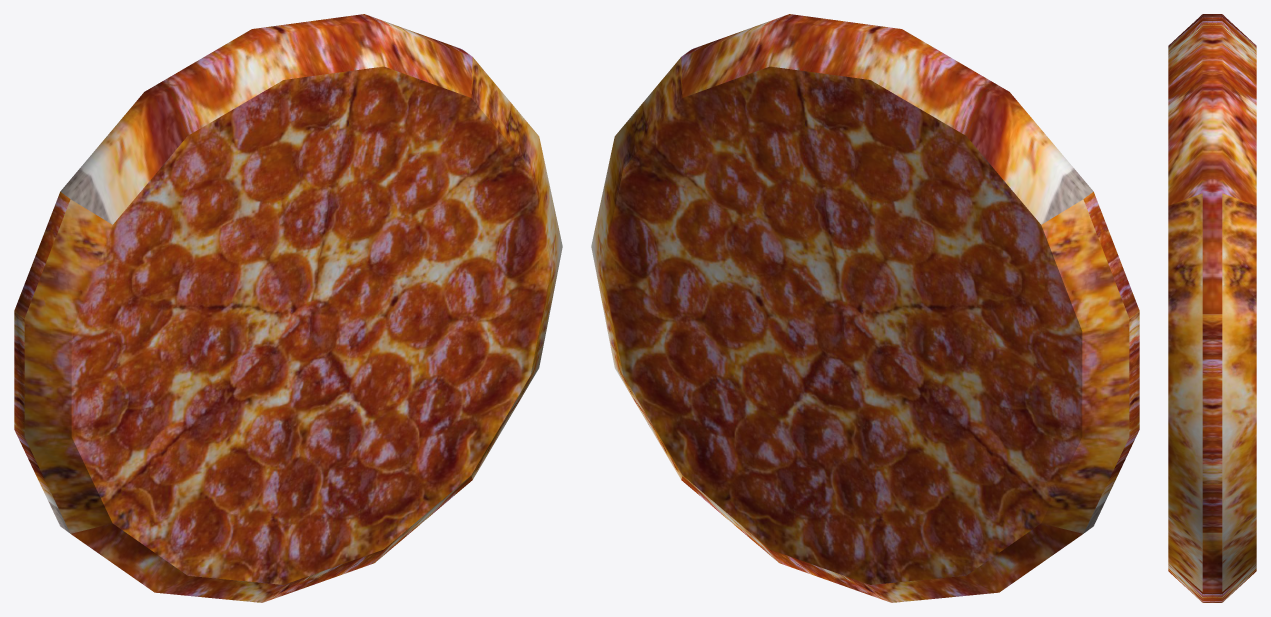
File: piza_002.FBX
3 renders of one model, left to right at view 1: azimuth 30°, elevation 25°; view 2: azimuth 150°, elevation 25°; view 3: azimuth 270°, elevation 25°, orthographic. The views are drawn at different scales.
Parts seen in each view (by area): view 1: Cylinder001; view 2: Cylinder001; view 3: Cylinder001.
Part boxes in pixels (left/top/right/bottom): Cylinder001: left=14, top=14, right=562, bottom=602; Cylinder001: left=591, top=14, right=1139, bottom=602; Cylinder001: left=1168, top=14, right=1256, bottom=602.
Size of the model in its own units: 165 by 166 by 24.92.
Materials: 1 (1 with a texture image).
